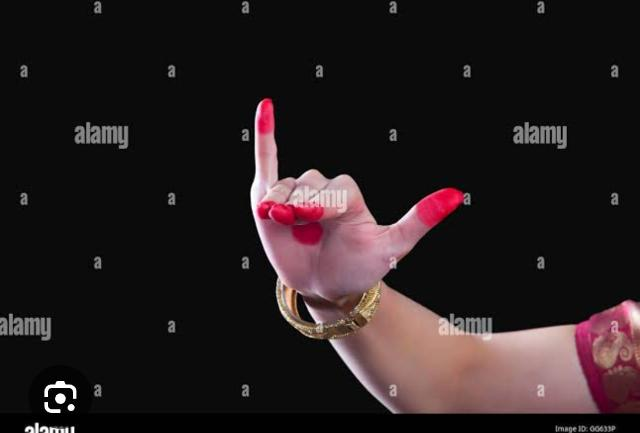mrighasheesh: (249, 102, 640, 416)
